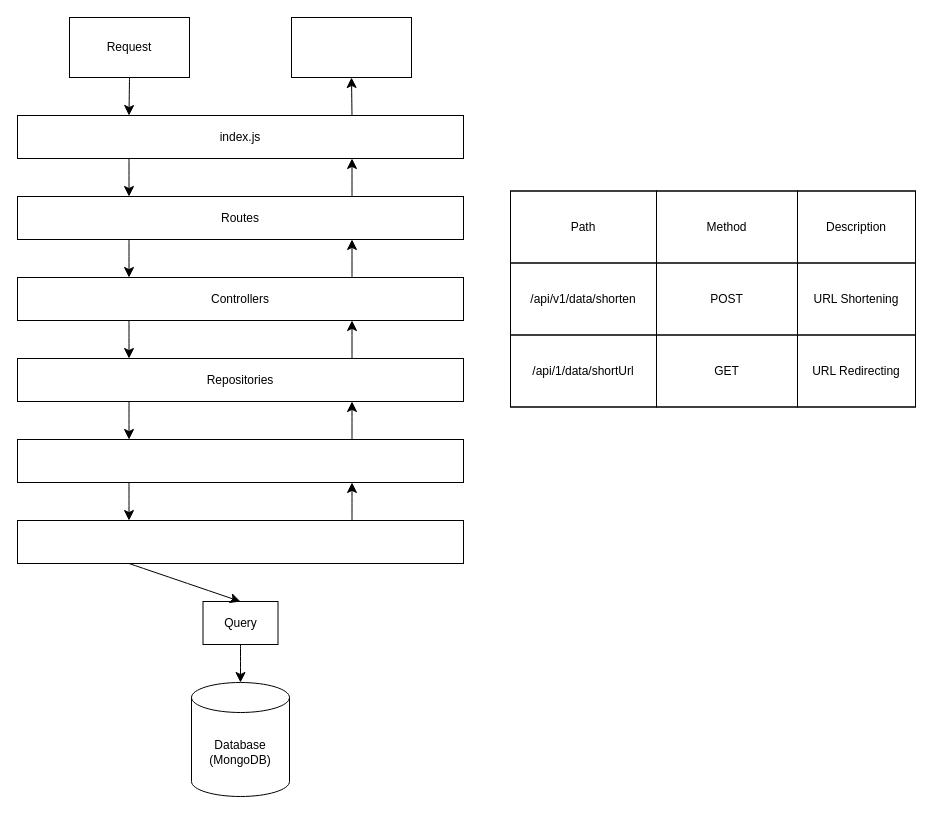
Image size: 933x814. Some labels were removed from this diagram. Each missing label, with the centre of its shape:
"Models" goes at [240,460].
"ORM (Mongoose)" goes at [240,542].
"Response" goes at [351,47].
